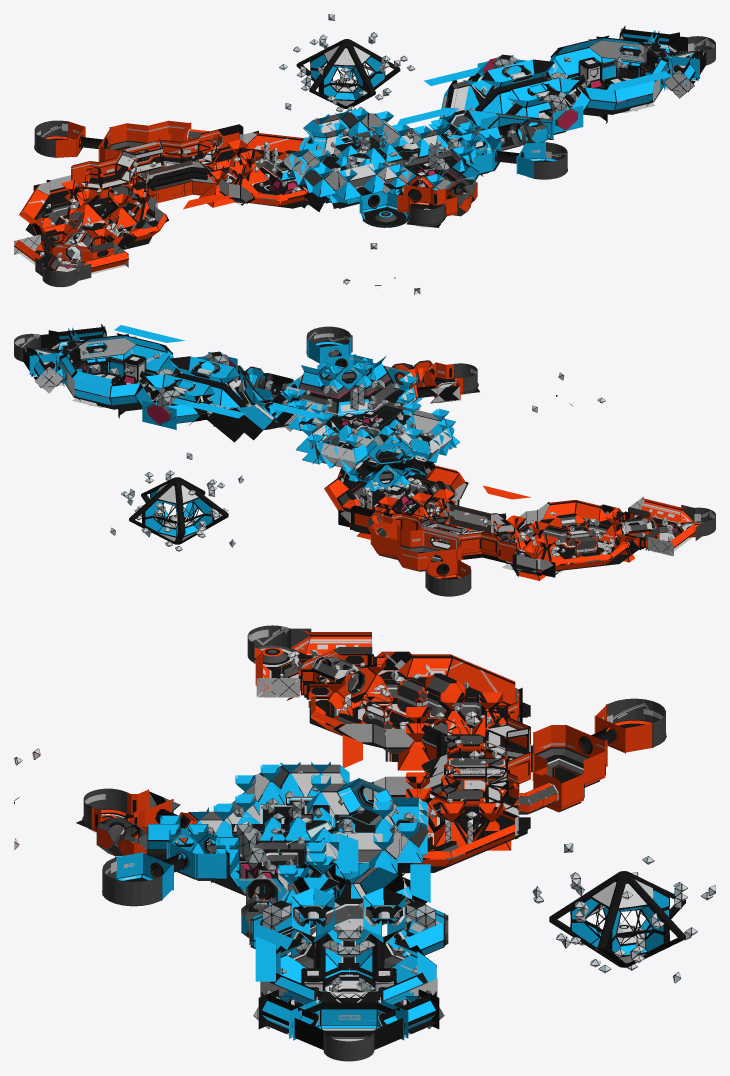
Rendered from surge.glb.
3 views of the same model, one above another, from view 1: azimuth 30°, elevation 25°; view 2: azimuth 150°, elevation 25°; view 3: azimuth 270°, elevation 25° (orthographic). The views are drawn at different scales.
Parts seen in each view (by area): view 1: surge; view 2: surge; view 3: surge.
Part boxes in pixels (box(x1,y1,x2,y2)): surge: box(14, 14, 715, 294); surge: box(14, 324, 715, 596); surge: box(14, 625, 715, 1061).
Bounding box in the file's own units: 206 × 25.72 × 130.
